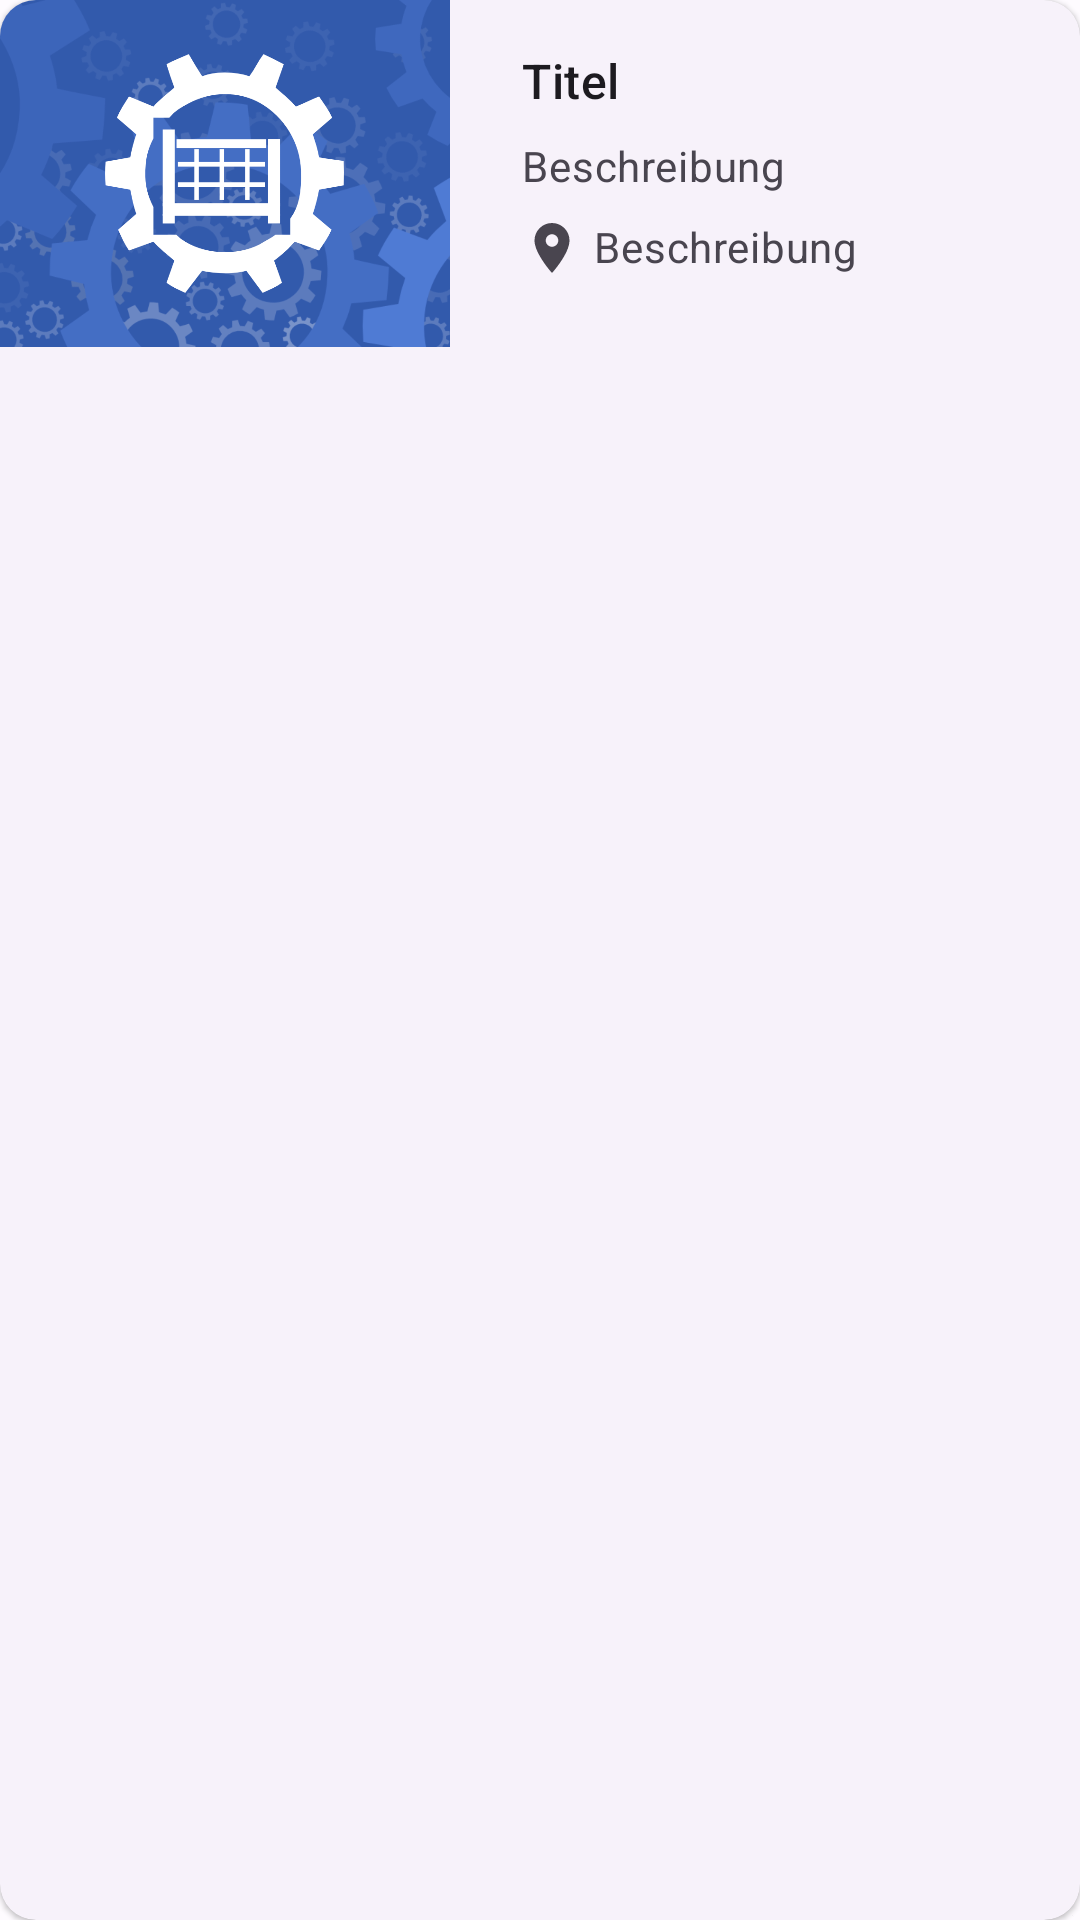

Icon click points for this 1080px×1920px phone screenshot, format [x,y]:
location on: [552,248]
